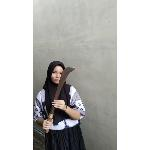Golok: (48, 66, 78, 117)
